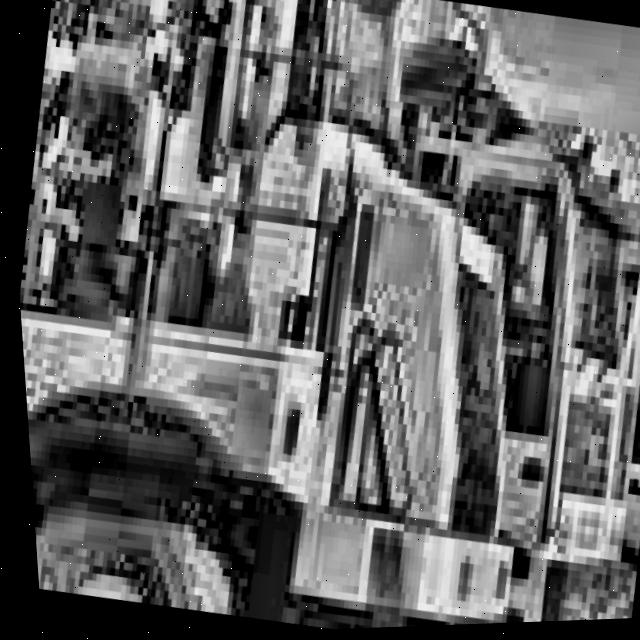dump_truck: (0, 0, 594, 640)
